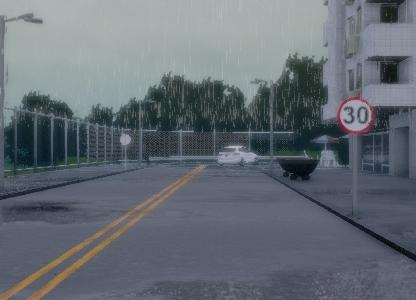Speed_30: (338, 99, 376, 135)
